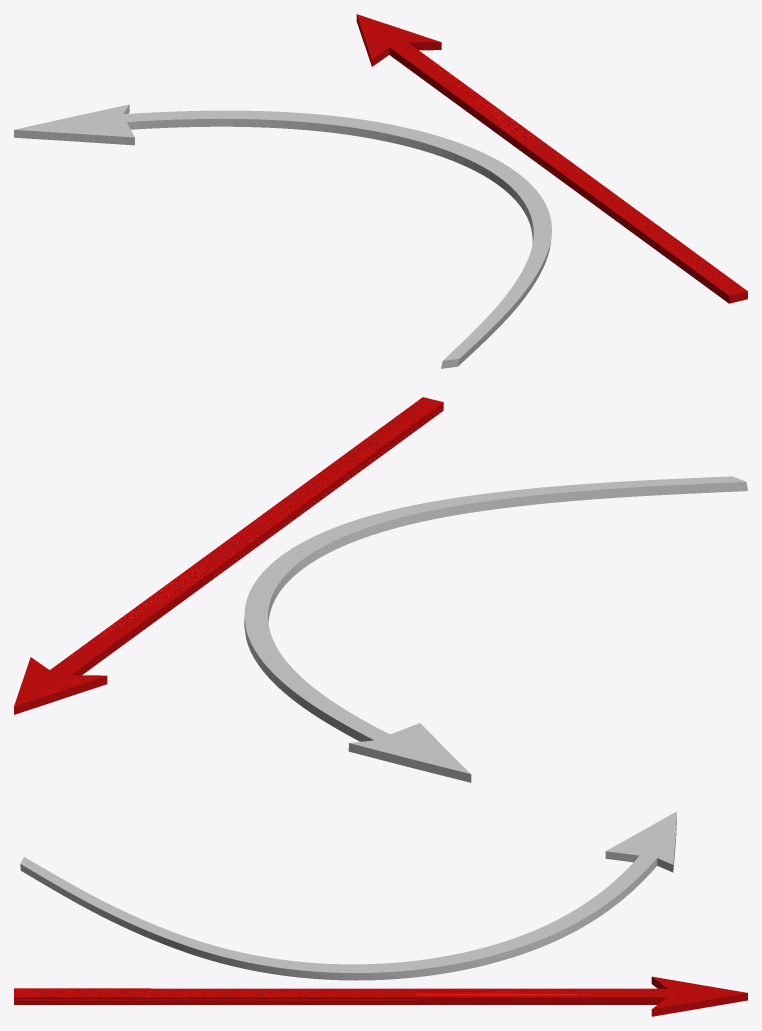
Rendered from arrow_rectangle_down_single_bent2_3.obj.
The picture shows the model from 3 angles, top to bottom: view 1: azimuth 30°, elevation 25°; view 2: azimuth 150°, elevation 25°; view 3: azimuth 270°, elevation 25°; orthographic projection. The views are drawn at different scales.
Visible parts, largest first — view 1: Cube.001, Cube; view 2: Cube.001, Cube; view 3: Cube.001, Cube.
Part boxes in pixels (x1,y1,x2,y2): Cube.001: [14, 104, 551, 368]; Cube: [356, 14, 747, 303]; Cube.001: [244, 476, 747, 782]; Cube: [14, 397, 443, 714]; Cube.001: [20, 811, 676, 980]; Cube: [14, 976, 747, 1016].
Bounding box in the file's own units: 1.14 × 0.0321 × 1.82.
